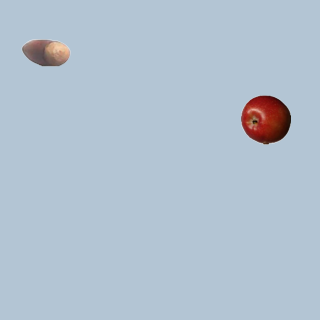Apple Braeburn: (240, 94, 290, 144)
Hazelnut: (20, 27, 70, 77)
